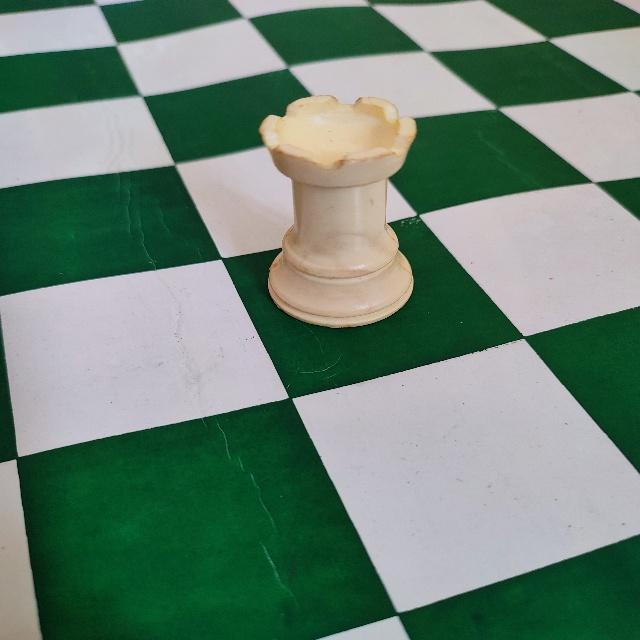Rook: (257, 90, 424, 330)
